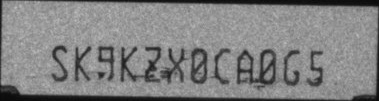0: (189, 47, 207, 85), (258, 48, 276, 84)
5: (306, 49, 324, 87)
9: (96, 44, 114, 81)
A: (235, 49, 253, 84)
C: (213, 47, 231, 85)
G: (282, 48, 300, 86)
K: (120, 46, 137, 83), (74, 45, 90, 82)
S: (50, 45, 68, 82)
X: (166, 47, 184, 83)
Z: (143, 45, 162, 83)
